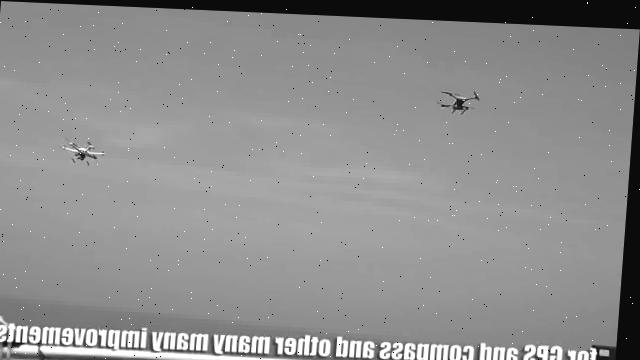drone: (437, 78, 486, 110), (60, 134, 107, 164)
